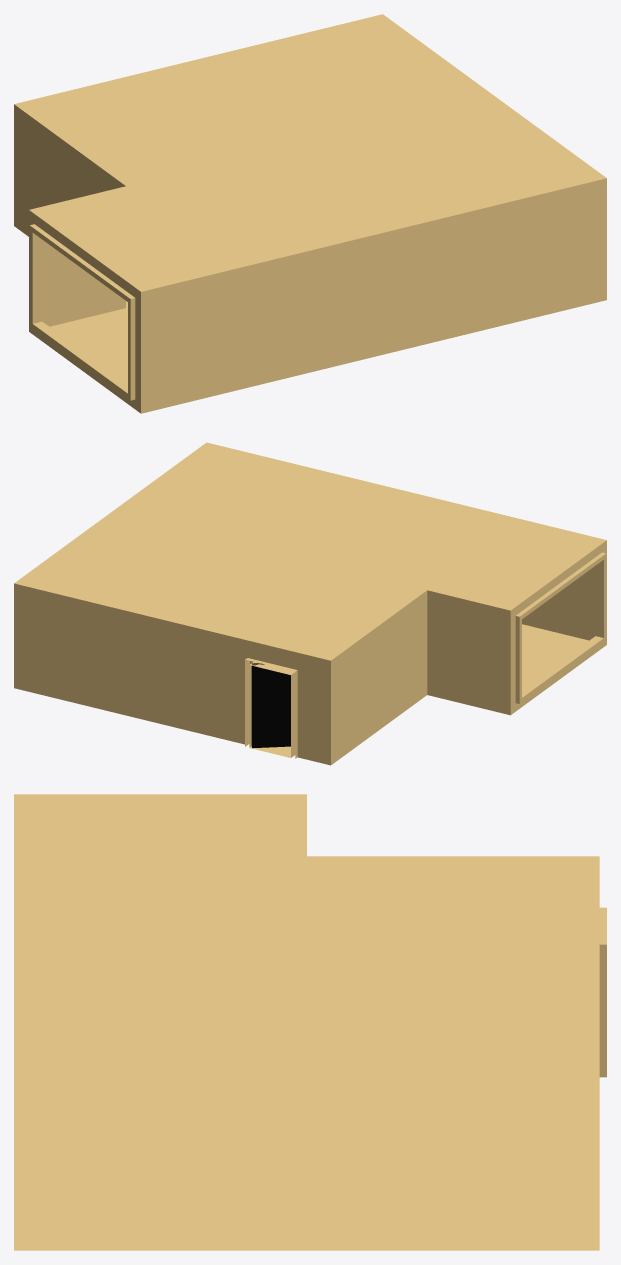
File: house.glb
3 renders of one model, top to bottom at view 1: azimuth 30°, elevation 25°; view 2: azimuth 150°, elevation 25°; view 3: azimuth 270°, elevation 25°, orthographic. The views are drawn at different scales.
Visible parts, largest first — view 1: House; view 2: House, Door; view 3: House.
Part boxes in pixels (x1=…): House: x1=14, y1=14, x2=606, y2=413; House: x1=14, y1=442, x2=606, y2=765; Door: x1=251, y1=663, x2=290, y2=748; House: x1=14, y1=794, x2=606, y2=1250.
Size of the model in its own units: 24.25 by 6 by 20.25.
2 materials, 2 textured.
